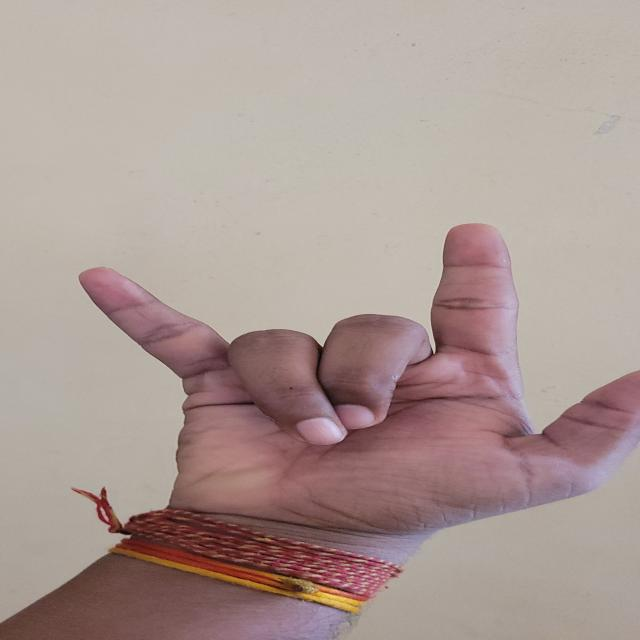i like you: (15, 187, 640, 577)
